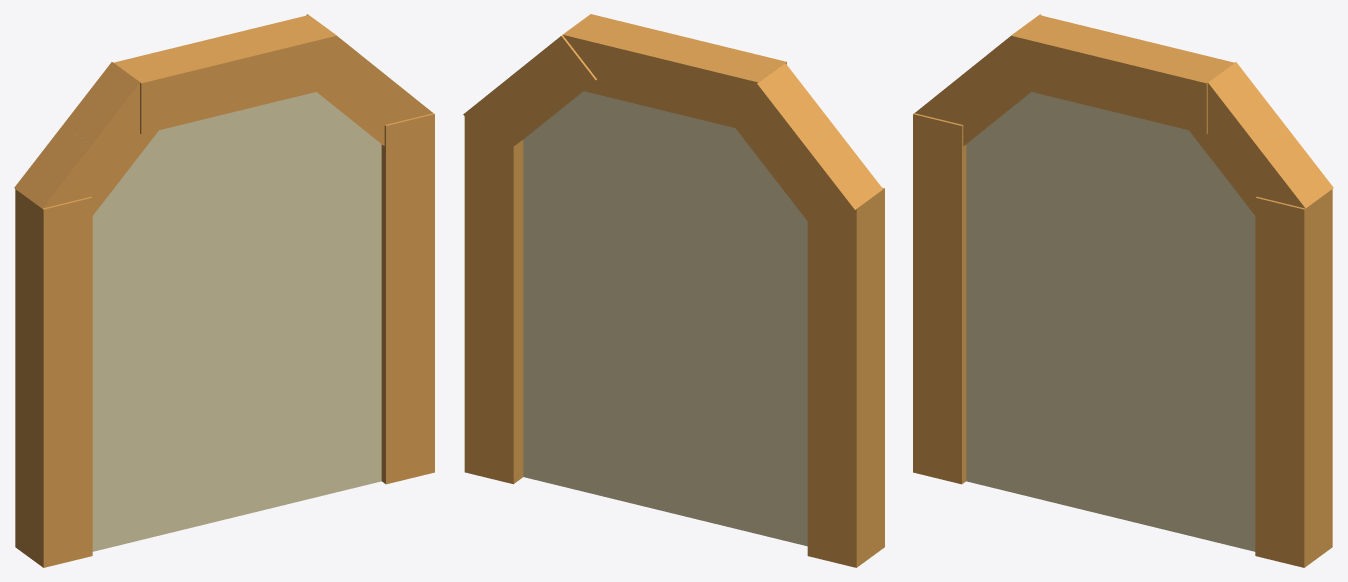
File: ImpactAbsorbeWall.fbx
The picture shows the model from 3 angles, left to right: view 1: azimuth 30°, elevation 25°; view 2: azimuth 150°, elevation 25°; view 3: azimuth 330°, elevation 25°; orthographic projection.
Visible parts, largest first — view 1: Cube.001, Cube.007; view 2: Cube.001, Cube.007; view 3: Cube.001, Cube.007.
Boxes of the visible parts, x1=… form: Cube.001: x1=75, y1=92, x2=381, y2=551; Cube.007: x1=14, y1=14, x2=434, y2=567; Cube.001: x1=523, y1=91, x2=831, y2=546; Cube.007: x1=463, y1=14, x2=884, y2=567; Cube.001: x1=966, y1=92, x2=1272, y2=551; Cube.007: x1=913, y1=14, x2=1333, y2=567.
Size of the model in its own units: 160 by 180 by 21.
